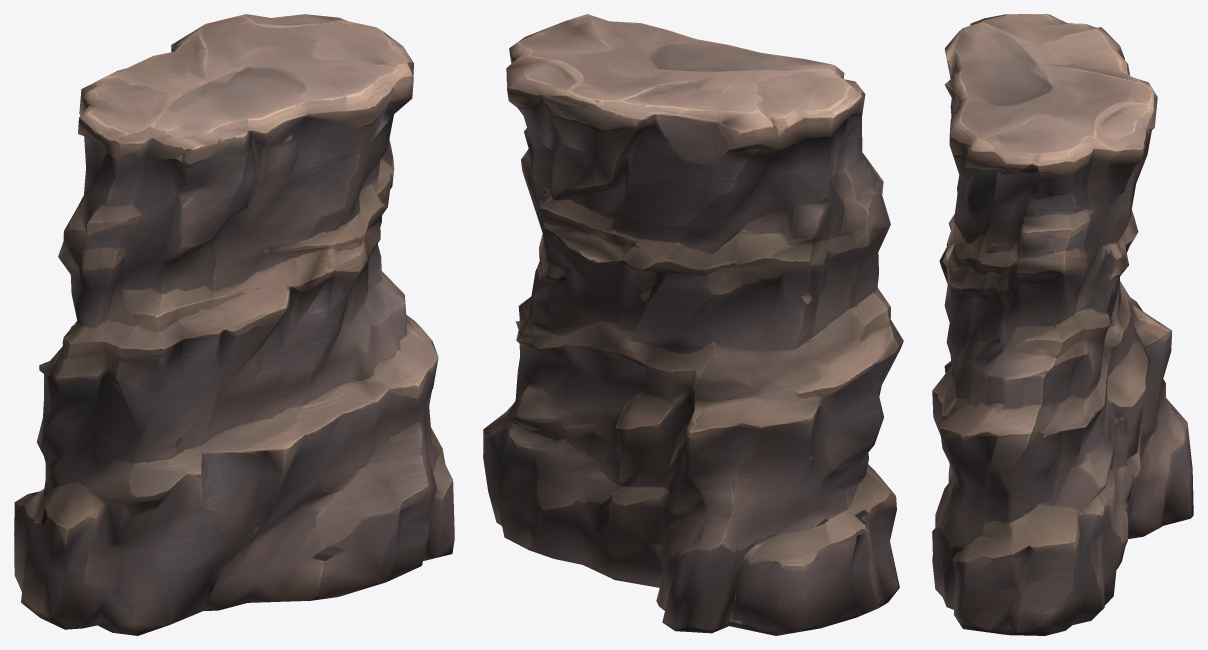
File: LL_CliffRock.fbx
3 views of the same model, side by side, from view 1: azimuth 30°, elevation 25°; view 2: azimuth 150°, elevation 25°; view 3: azimuth 270°, elevation 25° (orthographic). The views are drawn at different scales.
Parts seen in each view (by area): view 1: tripo_node_3626f9cd; view 2: tripo_node_3626f9cd; view 3: tripo_node_3626f9cd.
Boxes of the visible parts, x1,y1,x2,y2 form: tripo_node_3626f9cd: (14, 14, 454, 635); tripo_node_3626f9cd: (483, 14, 903, 635); tripo_node_3626f9cd: (932, 14, 1193, 635).
Size of the model in its own units: 82.38 by 48.74 by 97.67.
1 material, 1 textured.
